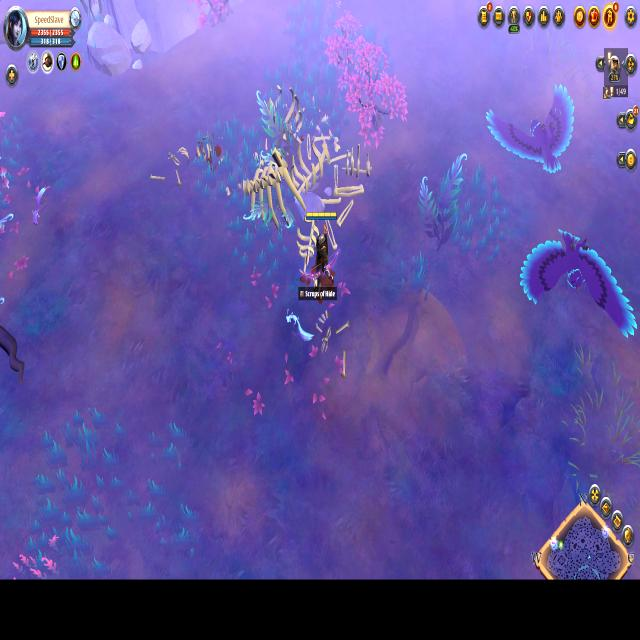red: (300, 203, 341, 298)
